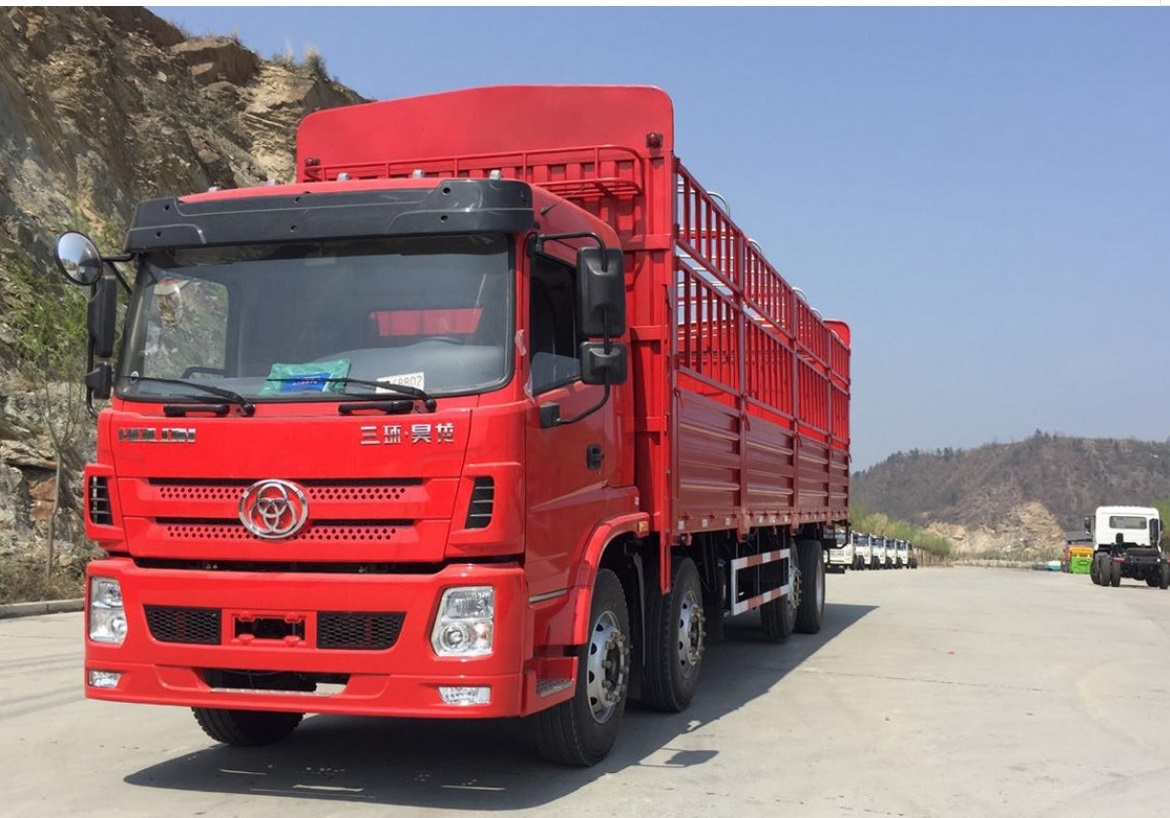heavy truck: (32, 74, 874, 774)
